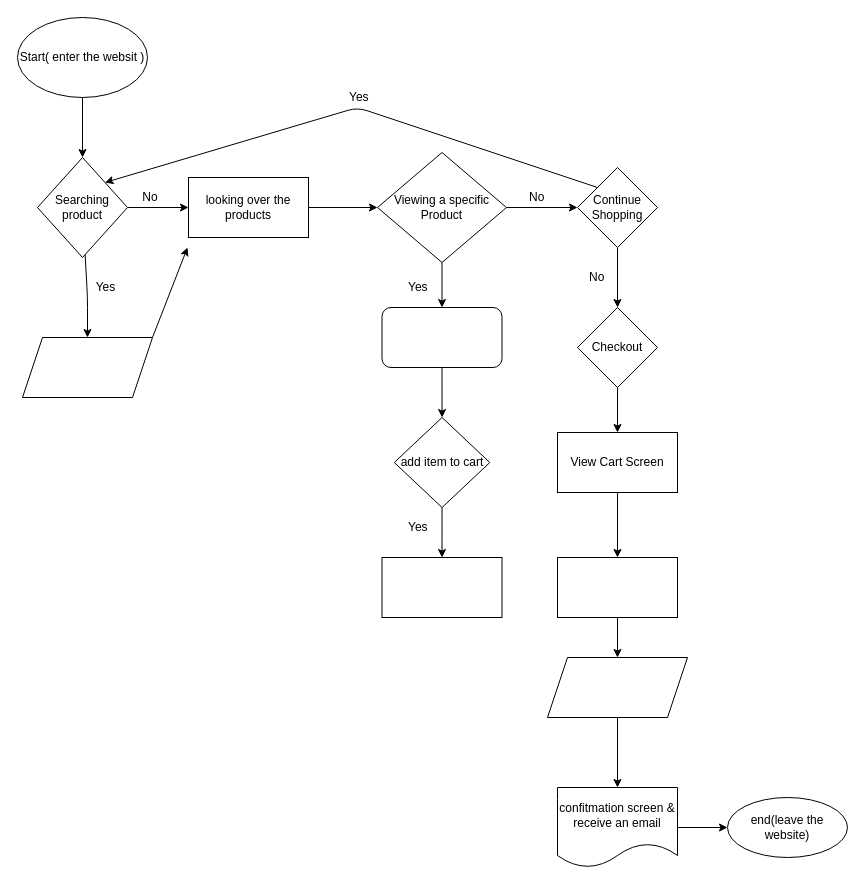
Image size: 865x885. Some labels were removed from this diagram. Each missing label, with the box of its shape:
Confirmation for adding the item to cart: (381, 556, 502, 618)
Input payment infotmation: (546, 656, 688, 718)
product's webpage open: (381, 306, 502, 368)
Read user input for searching product: (22, 336, 152, 398)
View Payment Screen: (556, 556, 678, 618)
